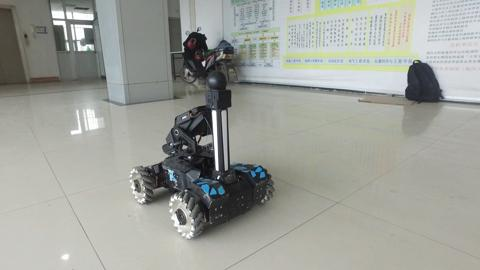bag: (399, 56, 446, 110)
chariot: (121, 70, 286, 240)
